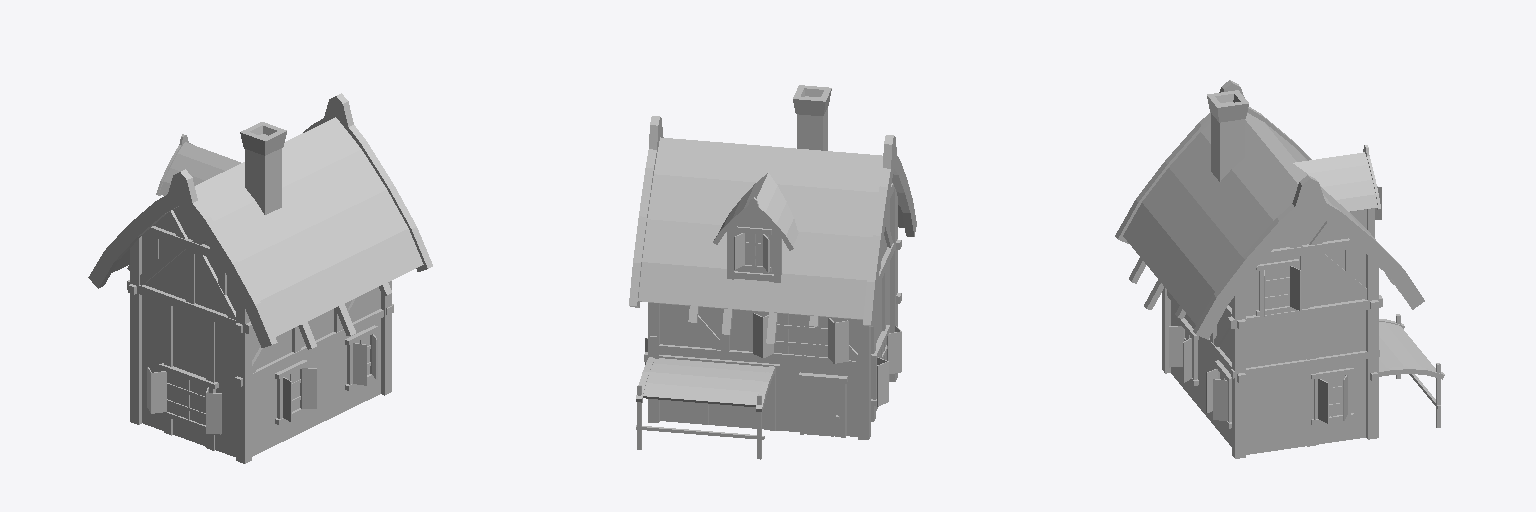
Rendered from business.obj.
3 renders of one model, left to right at view 1: azimuth 30°, elevation 25°; view 2: azimuth 150°, elevation 25°; view 3: azimuth 270°, elevation 25°, orthographic.
Parts seen in each view (by area): view 1: pCube6453_Untitled.030; view 2: pCube6453_Untitled.030; view 3: pCube6453_Untitled.030.
Boxes of the visible parts, x1=… form: pCube6453_Untitled.030: x1=88, y1=93, x2=432, y2=463; pCube6453_Untitled.030: x1=629, y1=85, x2=916, y2=459; pCube6453_Untitled.030: x1=1115, y1=80, x2=1444, y2=458.
Bounding box in the file's own units: 12.15 × 12.69 × 12.83.